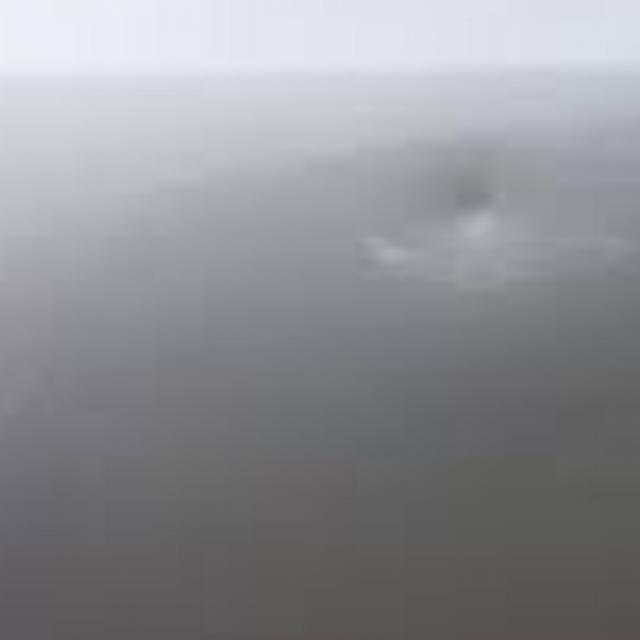dents: (391, 164, 551, 289)
